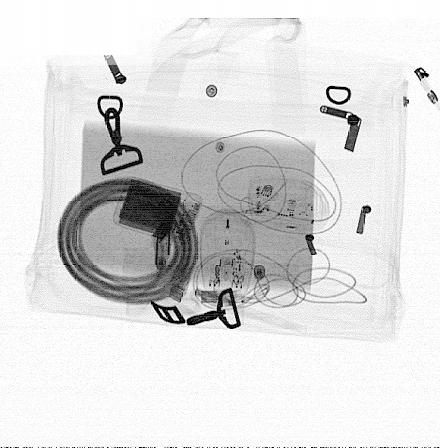Powerbank: (112, 176, 203, 245)
